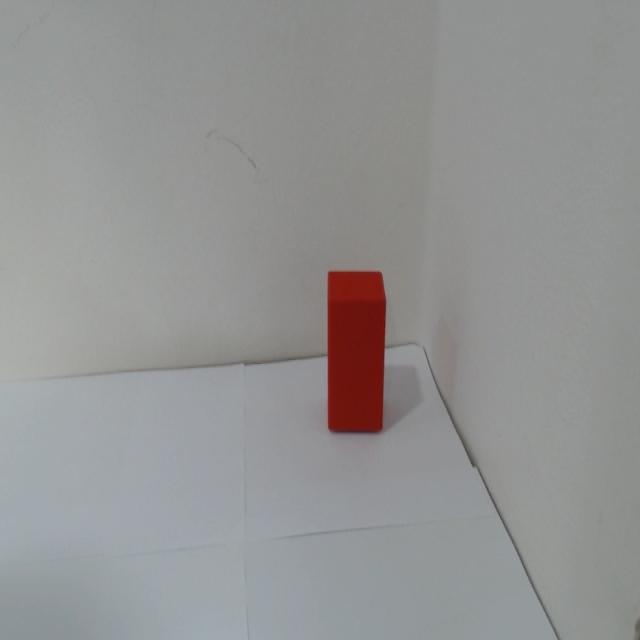cube: (326, 268, 389, 433)
